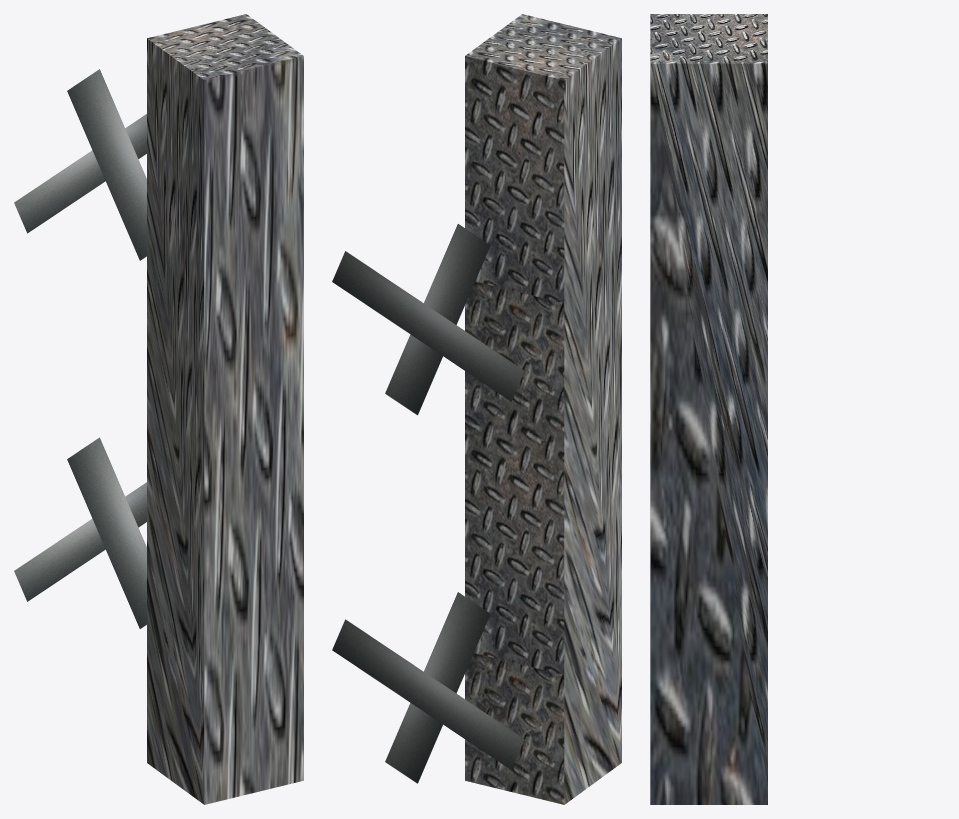
The model's file is wall.fbx.
The picture shows the model from 3 angles, left to right: view 1: azimuth 30°, elevation 25°; view 2: azimuth 150°, elevation 25°; view 3: azimuth 270°, elevation 25°; orthographic projection. The views are drawn at different scales.
Parts seen in each view (by area): view 1: pCube1, pPlane6, pPlane5; view 2: pCube1, pPlane5, pPlane6; view 3: pCube1.
Boxes of the visible parts, <box> form: pCube1: <box>147,14,303,804</box>; pPlane6: <box>14,437,146,628</box>; pPlane5: <box>14,69,146,260</box>; pCube1: <box>465,14,621,804</box>; pPlane5: <box>332,224,524,415</box>; pPlane6: <box>332,592,524,783</box>; pCube1: <box>650,14,767,804</box>.
Bounding box in the file's own units: 1.94 × 6.95 × 2.5.
2 materials, 2 textured.
